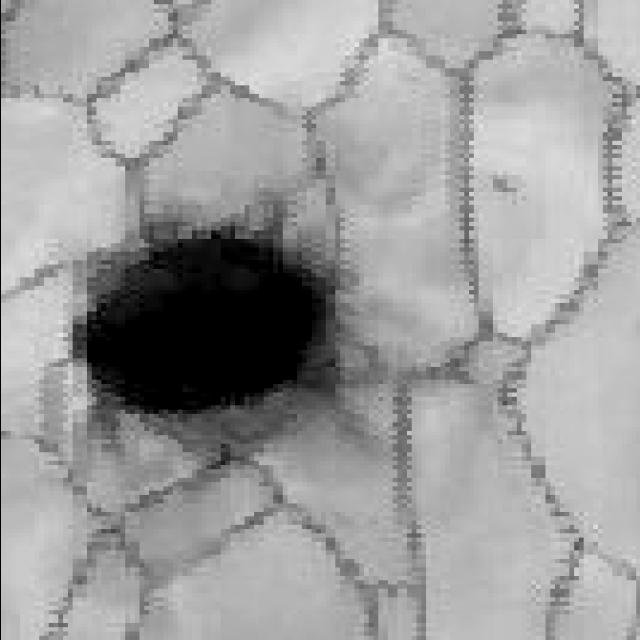good_void: (69, 201, 387, 474), (487, 172, 525, 206)
